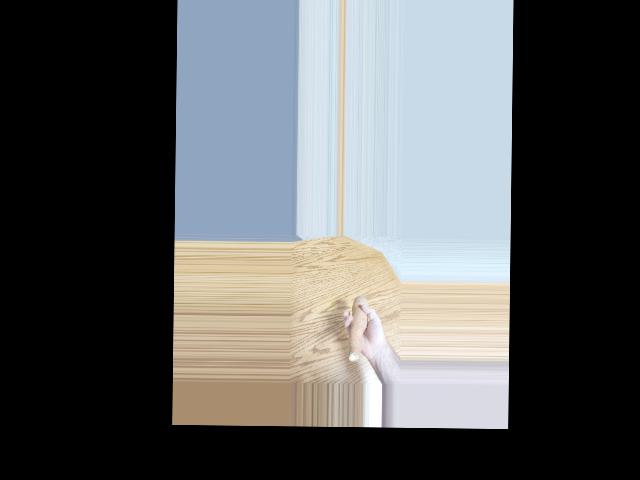sweet_potato: (347, 299, 369, 356)
